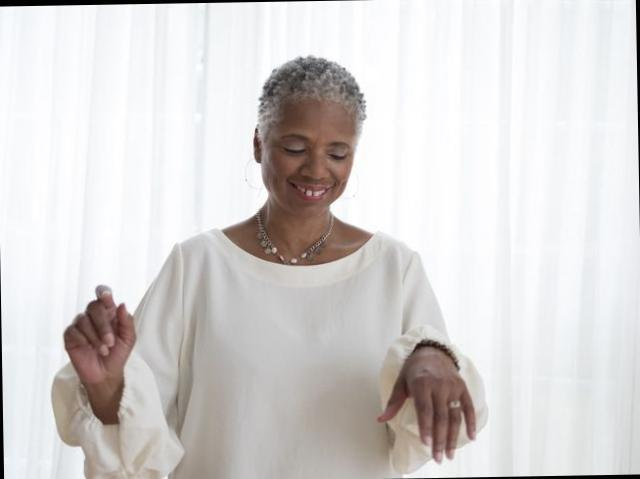Sober: (267, 95, 349, 208)
